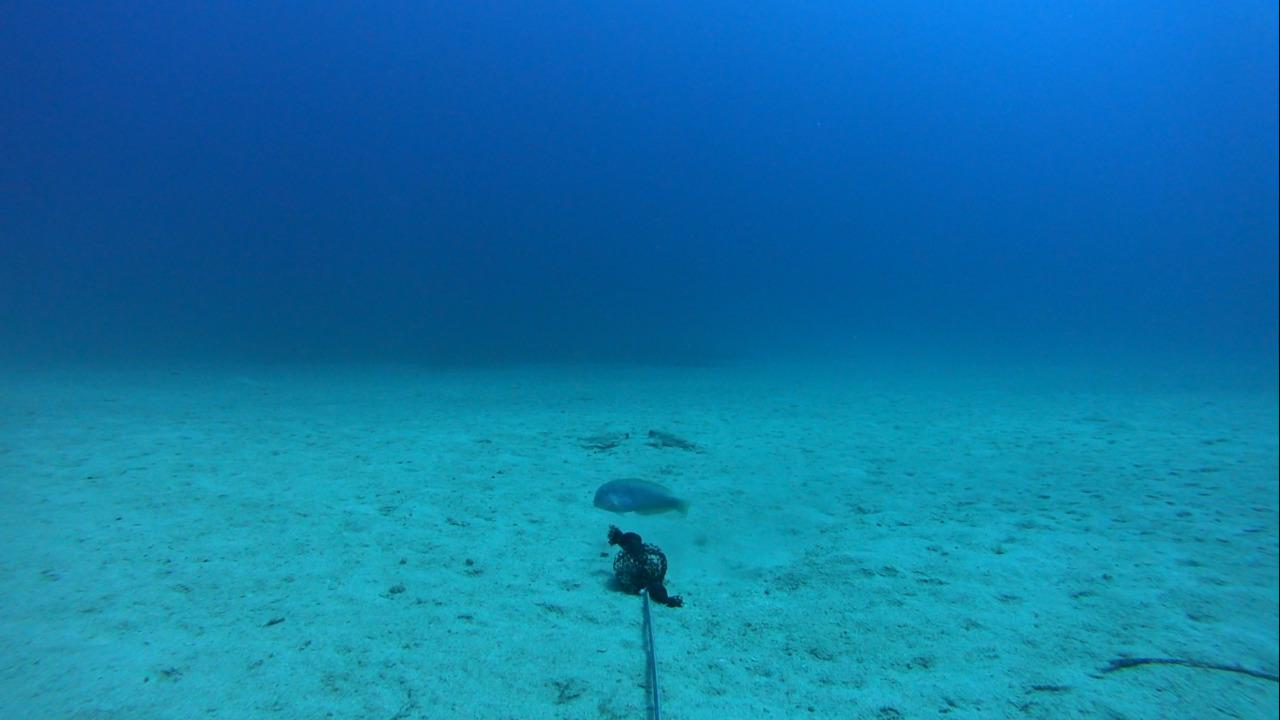dactylopterus: (640, 421, 720, 458), (557, 416, 633, 451)
raor: (587, 475, 696, 521)
